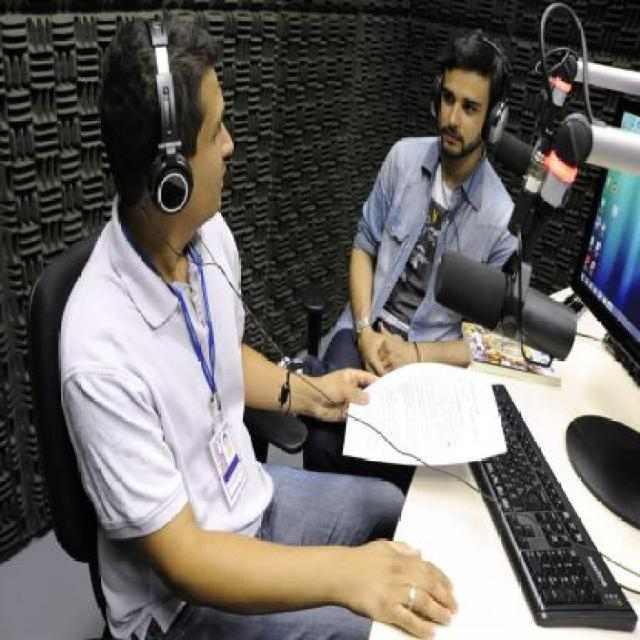earphone: (116, 9, 232, 220), (424, 34, 521, 141)
